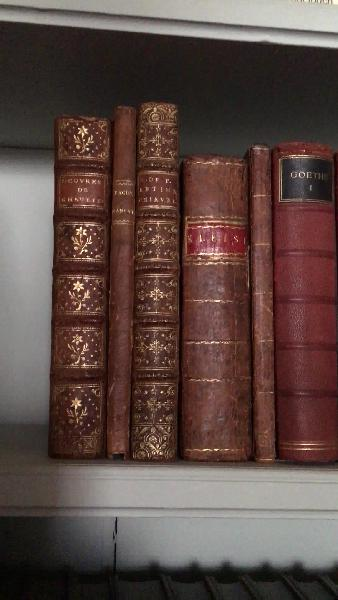Aa6-10: (248, 143, 278, 465)
Aa6-6: (51, 112, 106, 457)
Aa6-7: (109, 101, 140, 464)
Aa6-8: (136, 95, 182, 470)
Aa6-9: (178, 148, 256, 464)
